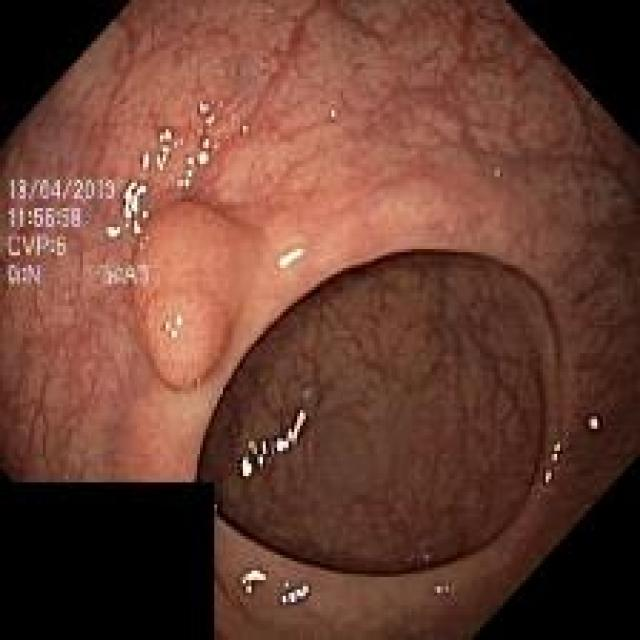Polyps: (132, 203, 255, 391)
